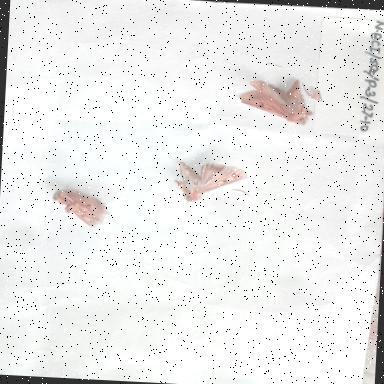abw: (232, 71, 316, 128), (166, 154, 252, 208), (43, 183, 114, 232)
